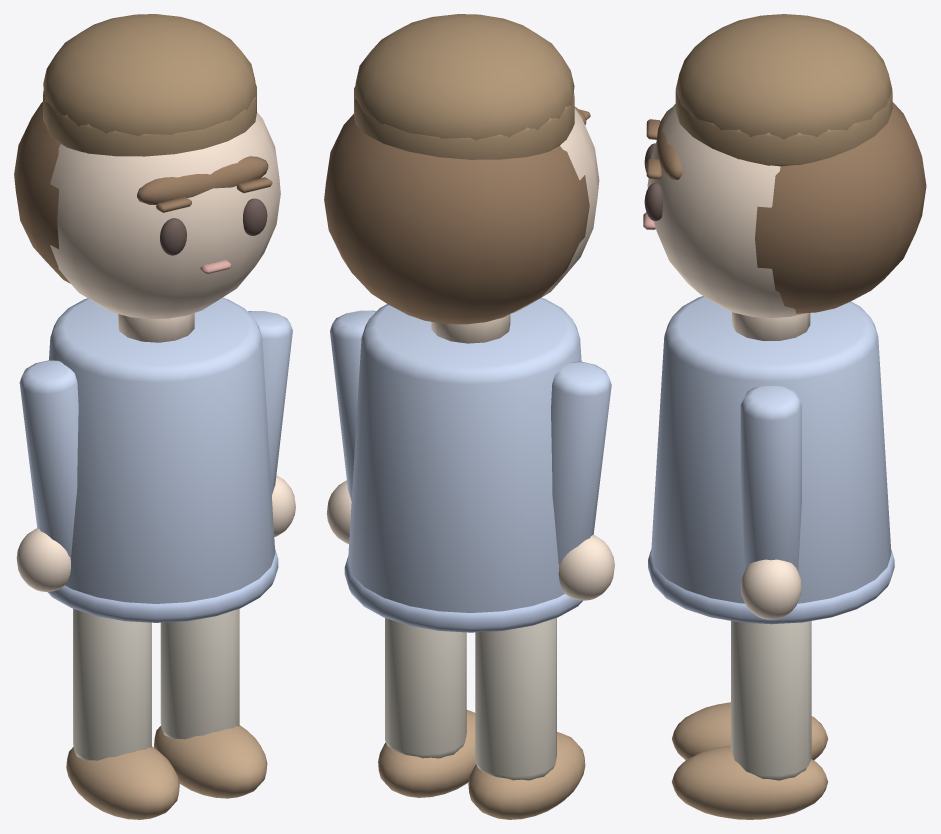
Rendered from player.glb.
The picture shows the model from 3 angles, left to right: view 1: azimuth 30°, elevation 25°; view 2: azimuth 150°, elevation 25°; view 3: azimuth 270°, elevation 25°; orthographic projection. The views are drawn at different scales.
Parts seen in each view (by area): view 1: upper, legL, legR, armL, armR; view 2: upper, legL, legR, armL, armR; view 3: upper, legR, armR, legL.
Boxes of the visible parts, x1,y1,x2,y2 form: upper: [14, 14, 280, 622]; legL: [66, 608, 179, 819]; legR: [154, 608, 267, 798]; armL: [16, 360, 78, 591]; armR: [248, 311, 295, 536]; upper: [324, 14, 599, 632]; legL: [468, 618, 585, 819]; legR: [378, 618, 475, 797]; armL: [551, 361, 614, 600]; armR: [326, 310, 375, 543]; upper: [643, 14, 926, 624]; legR: [672, 621, 827, 819]; armR: [740, 386, 801, 619]; legL: [672, 702, 827, 760].
Bounding box in the file's own units: 0.744 × 1.98 × 0.6655.
